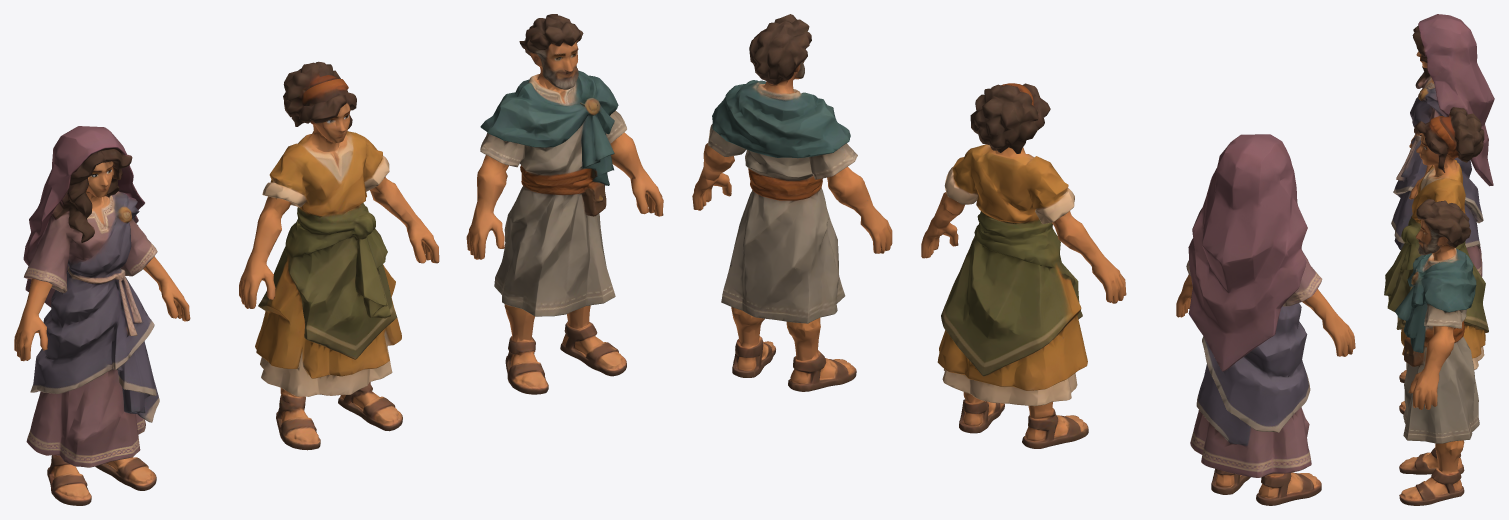
Rendered from maria_marta_lazaro_tripo.glb.
3 views of the same model, side by side, from view 1: azimuth 30°, elevation 25°; view 2: azimuth 150°, elevation 25°; view 3: azimuth 270°, elevation 25° (orthographic). The views are drawn at different scales.
Parts seen in each view (by area): view 1: tripo_node_fa20101f-1585-4872-bf63-a2a3772c7b3b; view 2: tripo_node_fa20101f-1585-4872-bf63-a2a3772c7b3b; view 3: tripo_node_fa20101f-1585-4872-bf63-a2a3772c7b3b.
Boxes of the visible parts, x1,y1,x2,y2 form: tripo_node_fa20101f-1585-4872-bf63-a2a3772c7b3b: (14,14,663,505); tripo_node_fa20101f-1585-4872-bf63-a2a3772c7b3b: (692,14,1355,505); tripo_node_fa20101f-1585-4872-bf63-a2a3772c7b3b: (1384,14,1494,505).
Size of the model in its own units: 1 by 0.5218 by 0.1839.
Materials: 1 (1 with a texture image).
